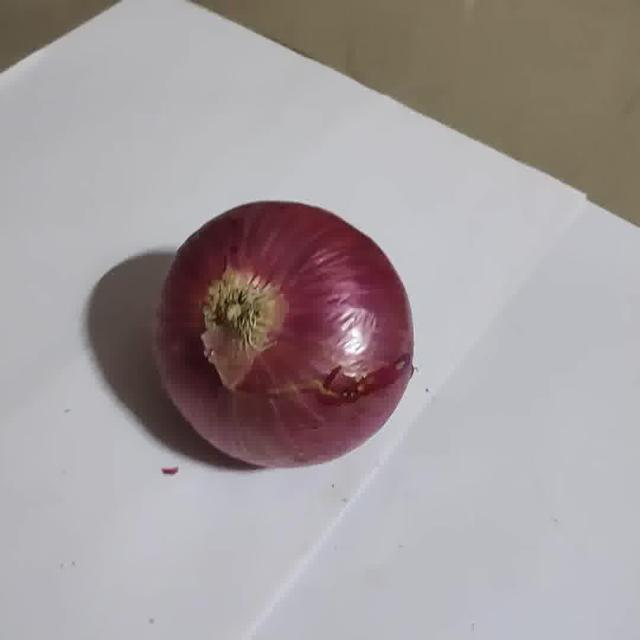Onion: (153, 201, 414, 468)
